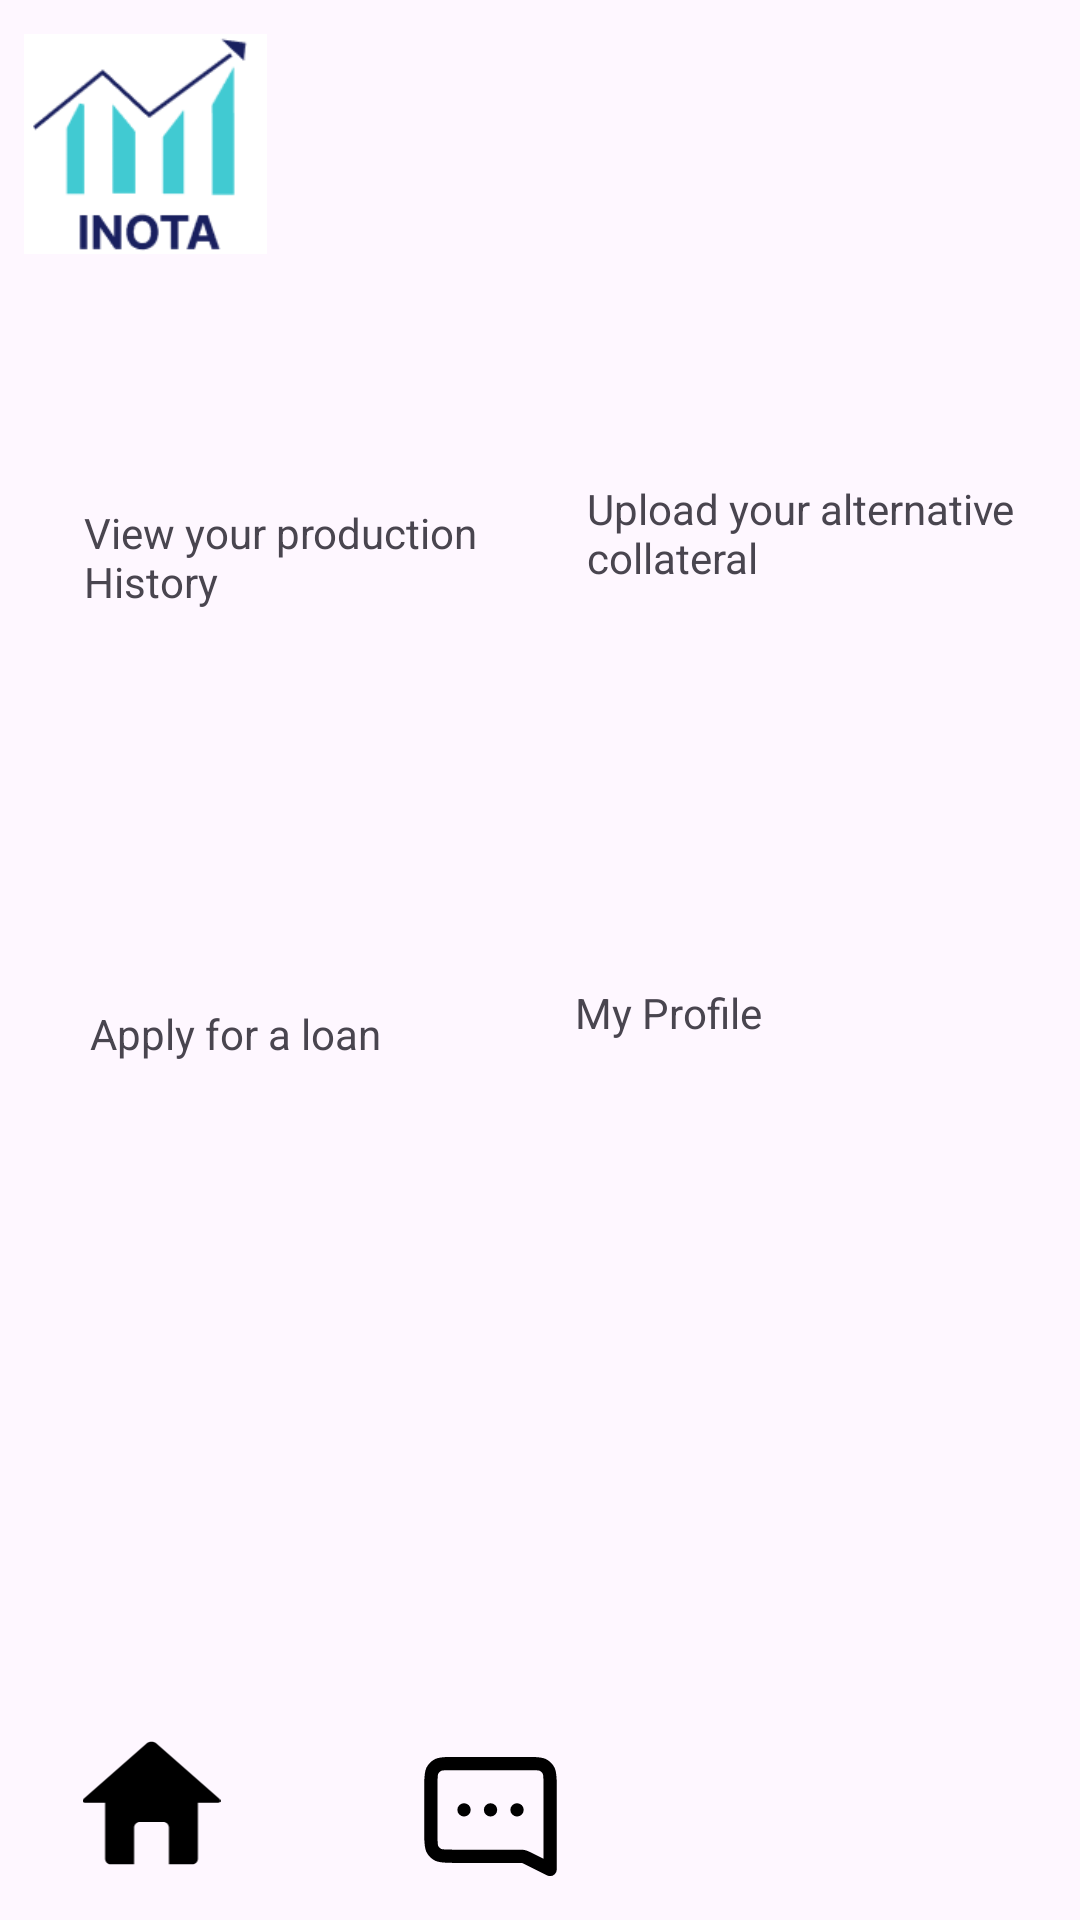

Locate icon controls on the screen. Image size 1080 × 1920, boxes as (x1, y1, x2, y2).
home: (83, 1741, 221, 1865)
message square dots: (424, 1757, 557, 1876)
